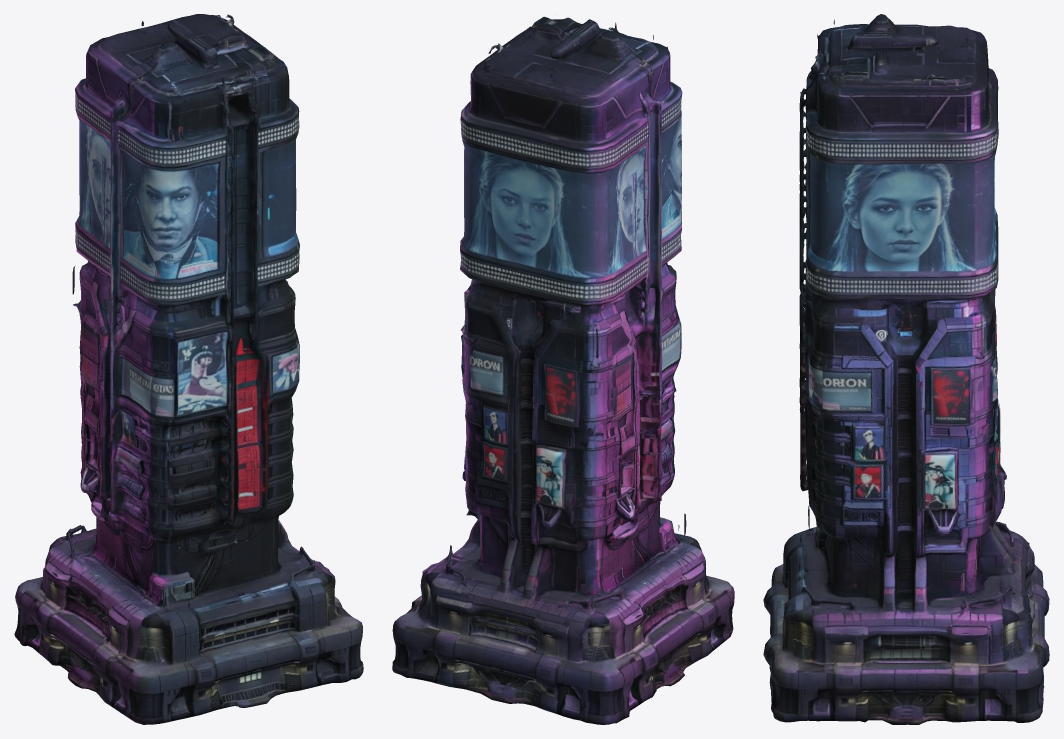
The model's file is billboard-column.glb.
3 renders of one model, left to right at view 1: azimuth 30°, elevation 25°; view 2: azimuth 150°, elevation 25°; view 3: azimuth 270°, elevation 25°, orthographic. The views are drawn at different scales.
Parts seen in each view (by area): view 1: 7dc71819-4308-49d8-a7e6-bbf63e8b91a2; view 2: 7dc71819-4308-49d8-a7e6-bbf63e8b91a2; view 3: 7dc71819-4308-49d8-a7e6-bbf63e8b91a2.
Boxes of the visible parts, x1,y1,x2,y2 form: 7dc71819-4308-49d8-a7e6-bbf63e8b91a2: (14, 14, 363, 724); 7dc71819-4308-49d8-a7e6-bbf63e8b91a2: (392, 16, 734, 724); 7dc71819-4308-49d8-a7e6-bbf63e8b91a2: (763, 14, 1049, 724).
Bounding box in the file's own units: 0.3749 × 0.9366 × 0.3814.
1 material, 1 textured.
